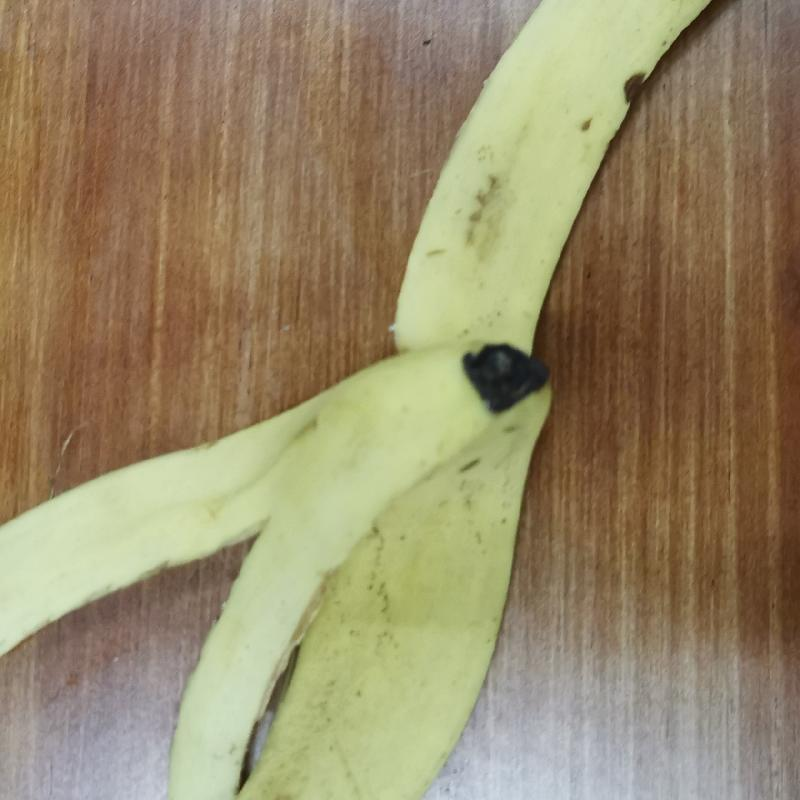bananas: (3, 0, 721, 799)
